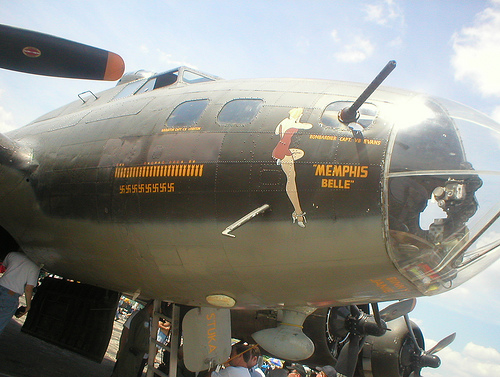rifle: (337, 58, 397, 124)
